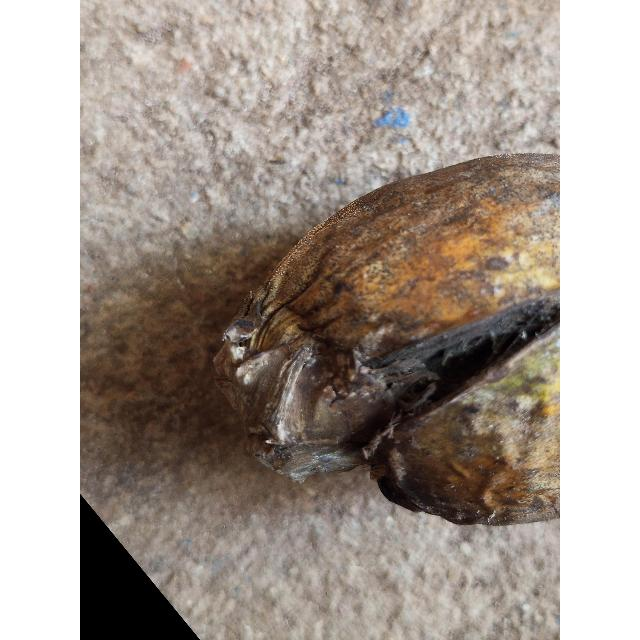damaged: (214, 154, 560, 525)
